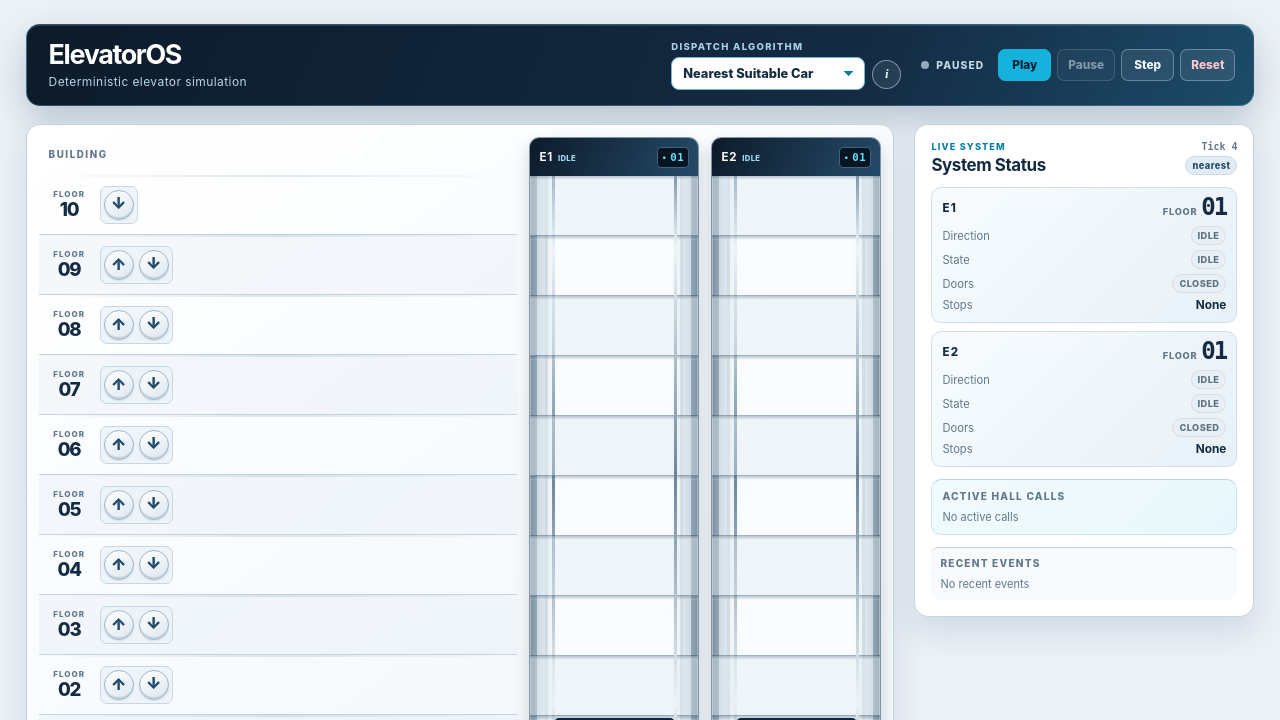
it: ElevatorOS visualizer › resets through the API and restores the returned state
The image size is (1280, 720).
Expected: the text "Tick 4" is shown, [1202,141,1237,152]
Click the button "Reset": (1208, 65) [1180,49,1235,81]
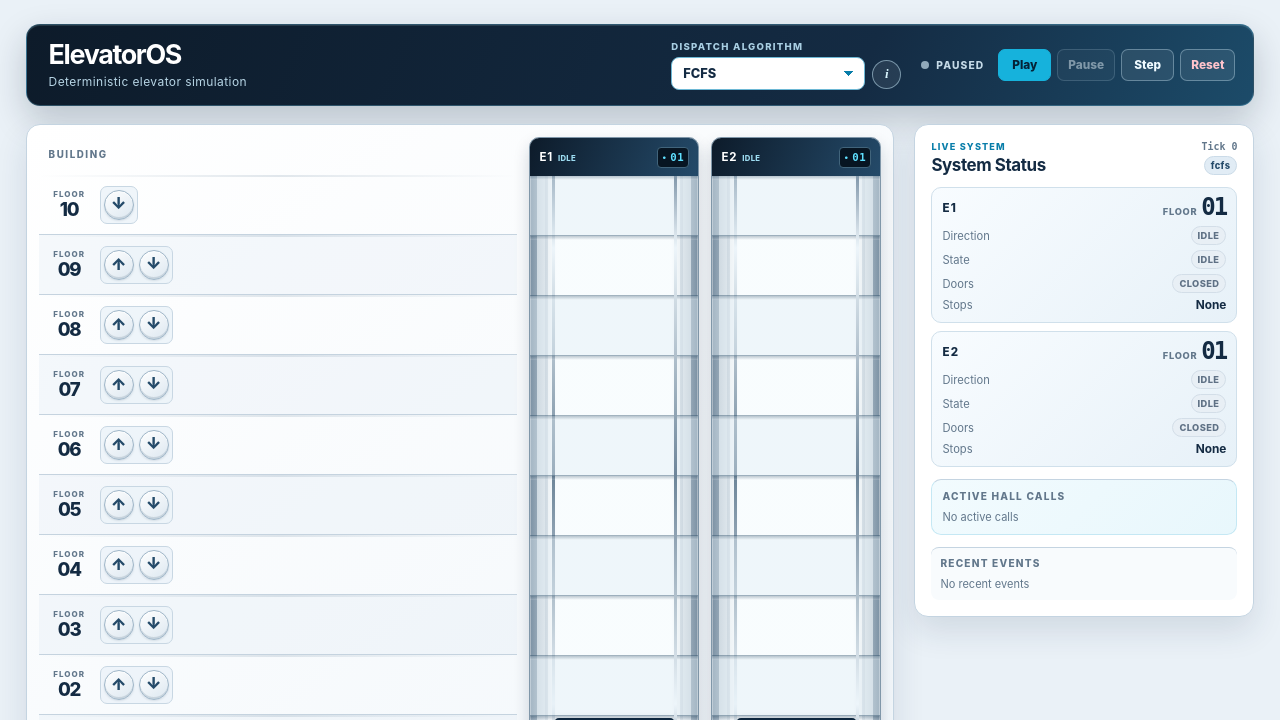
Expected: the text "Tick 0" is shown, [1202,141,1237,152]
